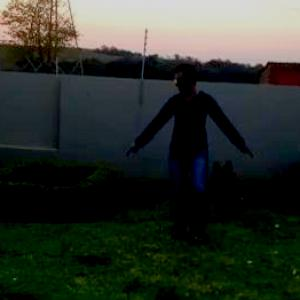land: (127, 65, 263, 258)
